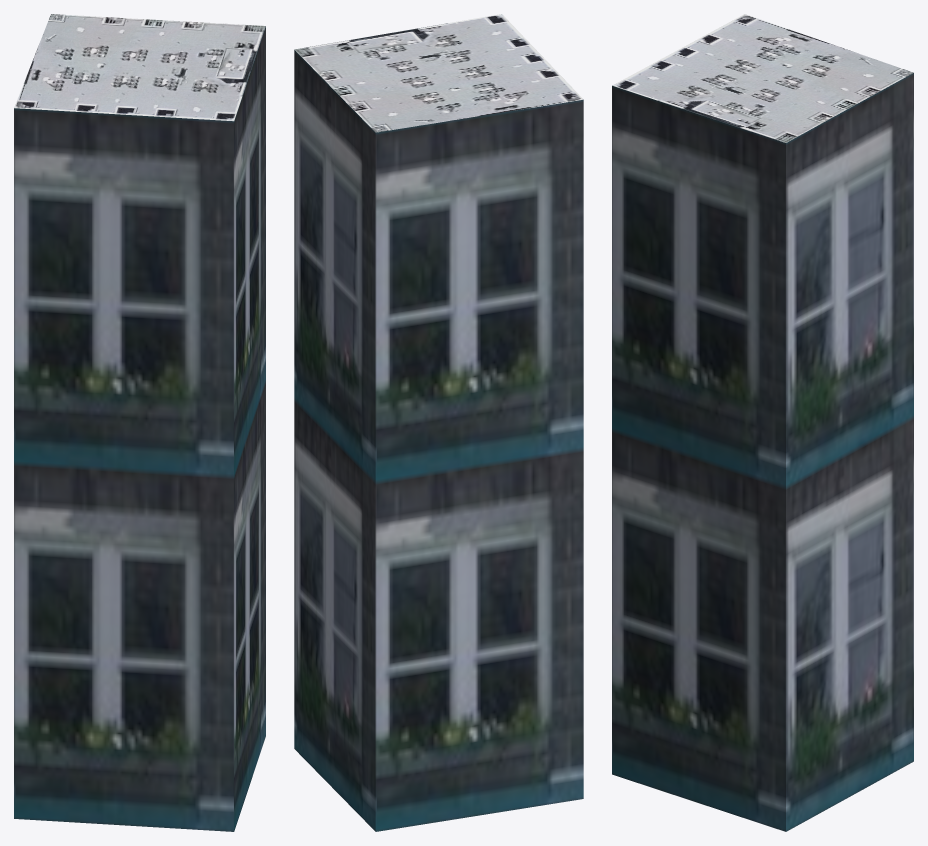
File: ResTex__4132.fbx
3 renders of one model, left to right at view 1: azimuth 30°, elevation 25°; view 2: azimuth 150°, elevation 25°; view 3: azimuth 270°, elevation 25°, orthographic. The views are drawn at different scales.
Parts seen in each view (by area): view 1: CityEngineMaterial_11_m, CityEngineMaterial_8_m; view 2: CityEngineMaterial_11_m, CityEngineMaterial_8_m; view 3: CityEngineMaterial_11_m, CityEngineMaterial_8_m.
Boxes of the visible parts, x1,y1,x2,y2 form: CityEngineMaterial_11_m: [14, 26, 265, 831]; CityEngineMaterial_8_m: [14, 14, 265, 121]; CityEngineMaterial_11_m: [294, 50, 583, 831]; CityEngineMaterial_8_m: [294, 14, 583, 132]; CityEngineMaterial_11_m: [612, 73, 913, 831]; CityEngineMaterial_8_m: [612, 14, 913, 142].
Size of the model in its own units: 2.41 by 6 by 2.38.
Materials: 2 (2 with a texture image).
